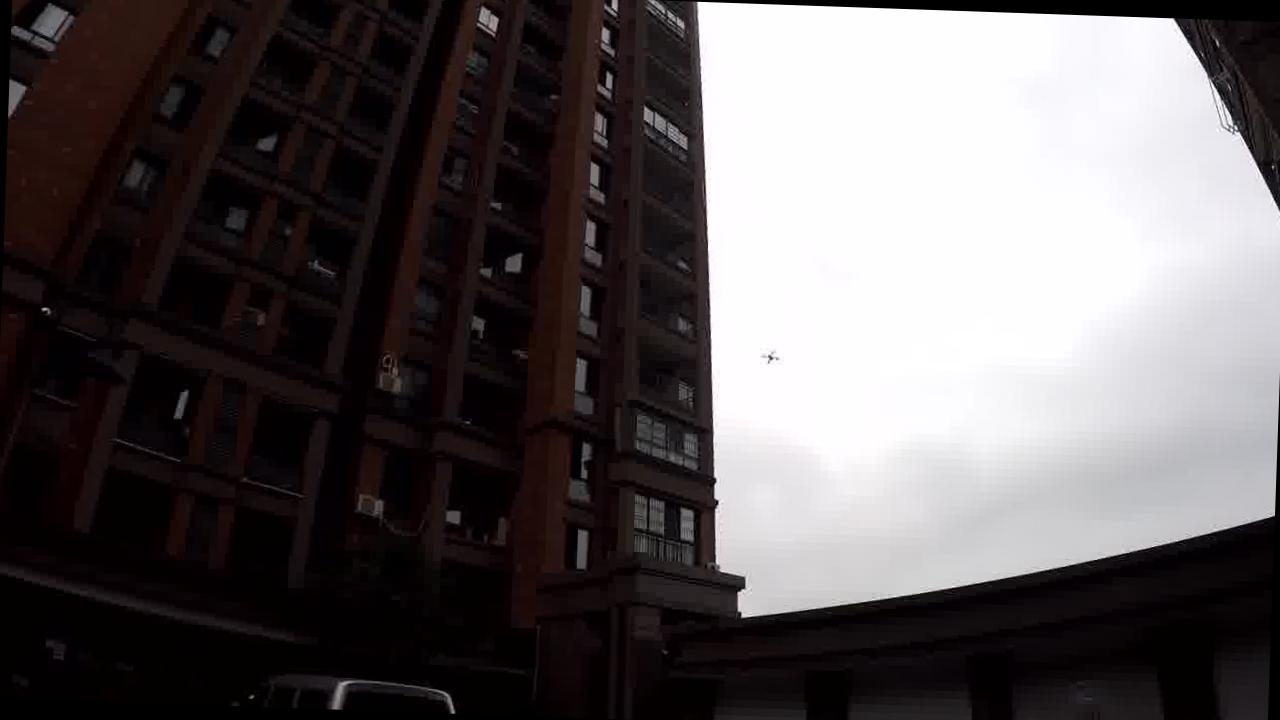drone: (760, 346, 781, 366)
